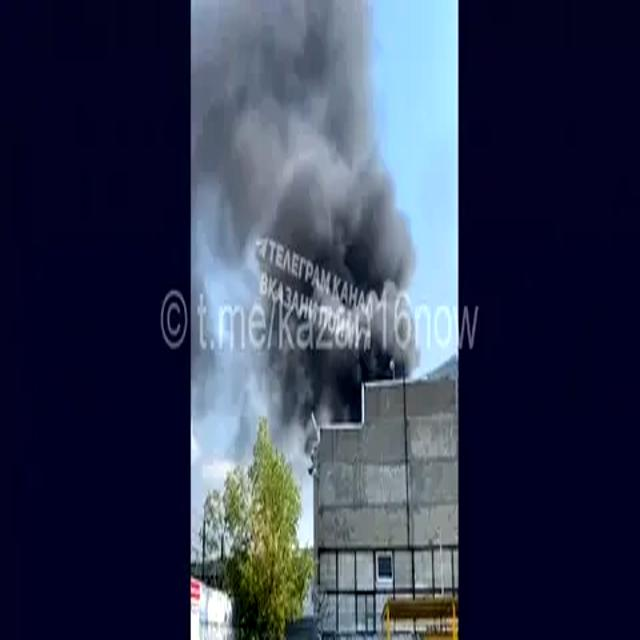Smoke: (190, 0, 418, 385)
